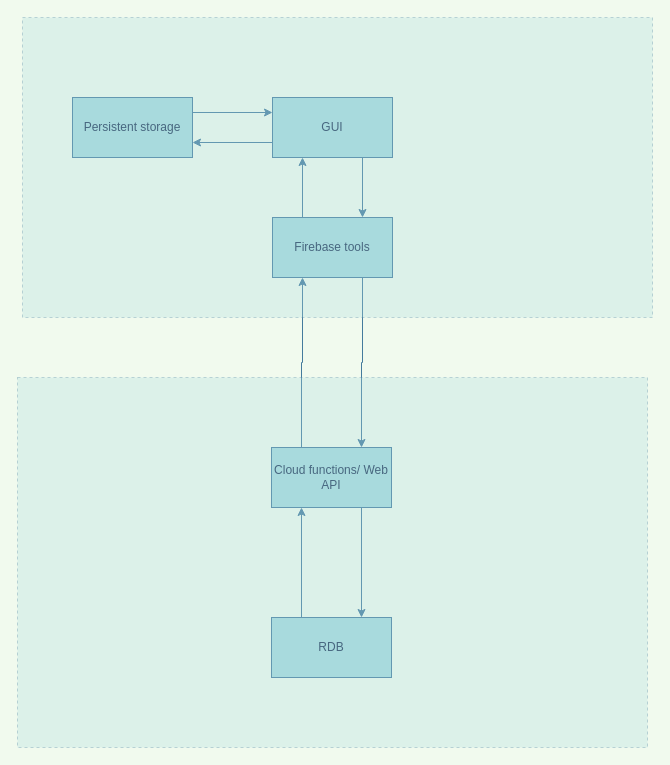
This 670x765 diagram has some shape labels left out. The shapes that lost their labels are listed below. From the top down, each one's centre as x and y in pixels, then its label:
At (x=337, y=167): "Client".
At (x=332, y=562): "Server".
